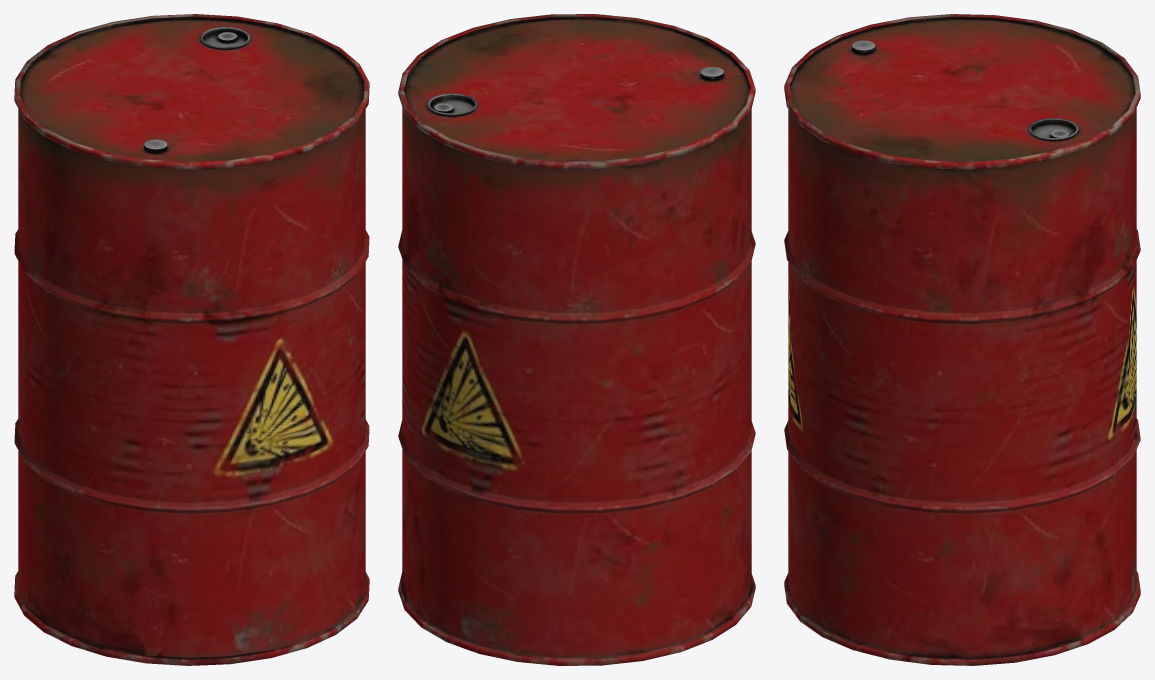
Rendered from Barrel_01.glb.
3 views of the same model, side by side, from view 1: azimuth 30°, elevation 25°; view 2: azimuth 150°, elevation 25°; view 3: azimuth 270°, elevation 25° (orthographic).
Visible parts, largest first — view 1: Barrel_01; view 2: Barrel_01; view 3: Barrel_01.
Part boxes in pixels (x1,y1,x2,y2): Barrel_01: (14,14,369,665); Barrel_01: (398,14,755,665); Barrel_01: (784,14,1140,665).
Bounding box in the file's own units: 0.5631 × 0.88 × 0.5631.
1 material, 1 textured.
